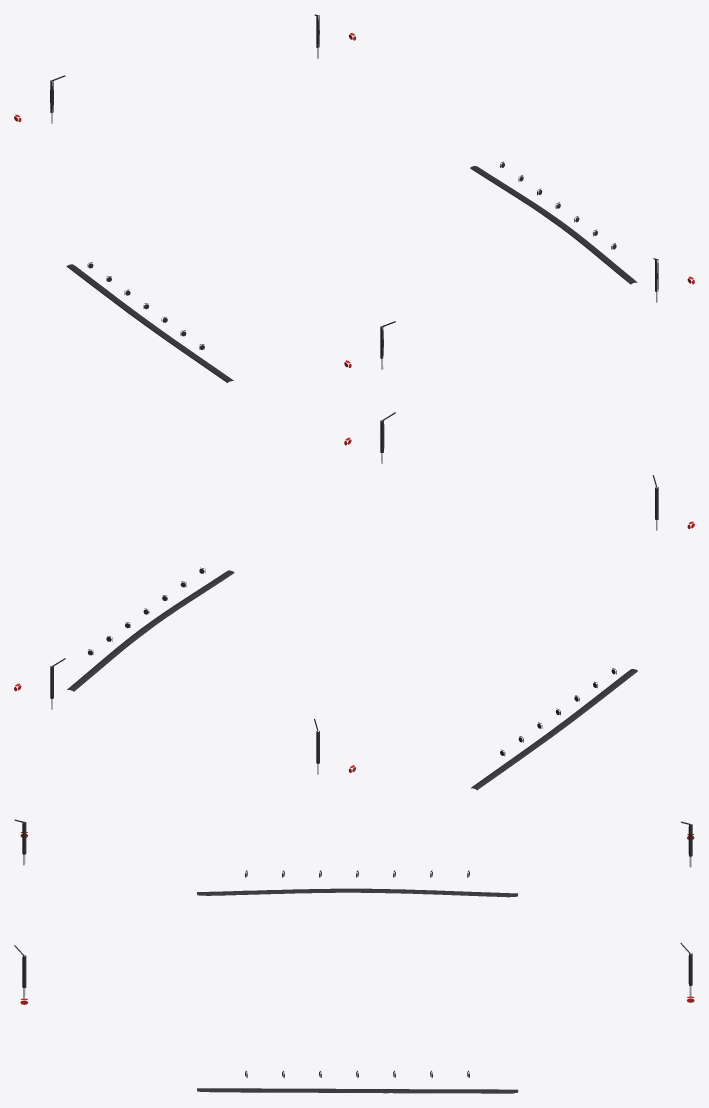
The model's file is telemetry_sensors.glb.
3 views of the same model, one above another, from view 1: azimuth 30°, elevation 25°; view 2: azimuth 150°, elevation 25°; view 3: azimuth 270°, elevation 25° (orthographic).
Visible parts, largest first — view 1: Telemetry_Sensors_Aero_Curls_Assembly; view 2: Telemetry_Sensors_Aero_Curls_Assembly; view 3: Telemetry_Sensors_Aero_Curls_Assembly.
Part boxes in pixels (x1,y1,x2,y2): Telemetry_Sensors_Aero_Curls_Assembly: [14, 14, 694, 382]; Telemetry_Sensors_Aero_Curls_Assembly: [14, 412, 694, 790]; Telemetry_Sensors_Aero_Curls_Assembly: [14, 819, 694, 1093].
Bounding box in the file's own units: 1.95 × 0.5031 × 2.76.
